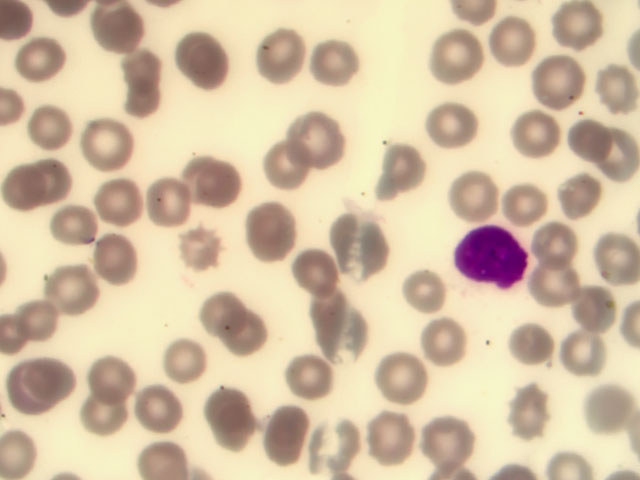RBC: (14, 33, 70, 88), (27, 97, 83, 152), (29, 149, 85, 204), (45, 196, 101, 251), (84, 178, 140, 233), (77, 117, 133, 172), (114, 70, 170, 125), (115, 38, 171, 93), (96, 2, 152, 57), (177, 29, 233, 84), (187, 147, 243, 202), (143, 174, 199, 229), (167, 223, 223, 278), (98, 232, 154, 287), (50, 259, 106, 314), (19, 293, 75, 348), (33, 353, 89, 408), (4, 361, 60, 416), (86, 350, 142, 405), (75, 384, 131, 439), (137, 384, 193, 439), (160, 333, 216, 388), (192, 276, 248, 331), (214, 315, 270, 370), (245, 244, 301, 299), (258, 139, 314, 194), (295, 115, 351, 170), (250, 29, 306, 84), (309, 34, 365, 89), (375, 149, 431, 204), (329, 214, 385, 269), (294, 243, 350, 298), (237, 196, 293, 251), (319, 291, 375, 346), (280, 350, 336, 405), (260, 406, 316, 461), (204, 390, 260, 445), (307, 417, 363, 472), (358, 415, 414, 470), (370, 350, 426, 405), (418, 317, 474, 372), (402, 265, 458, 320), (509, 321, 565, 376), (549, 329, 605, 384), (563, 281, 619, 336), (523, 255, 579, 310), (528, 217, 584, 272), (499, 177, 555, 232), (449, 165, 505, 220), (429, 98, 485, 153), (426, 27, 482, 82), (480, 12, 536, 67), (535, 53, 591, 108), (511, 113, 567, 168), (559, 111, 615, 166), (584, 134, 640, 189), (554, 173, 610, 228), (584, 383, 640, 438), (501, 385, 557, 440), (422, 413, 478, 468), (1, 160, 56, 215), (551, 1, 607, 55)
WBC: (454, 221, 532, 287)
